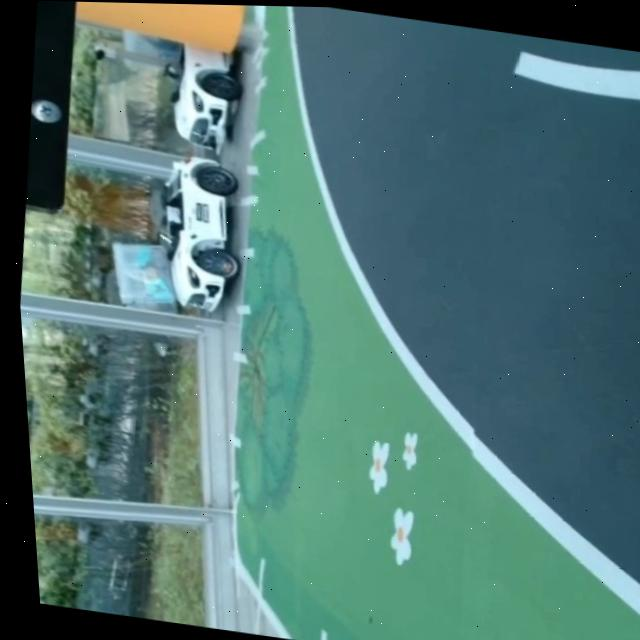traffic-light: (10, 0, 96, 225)
